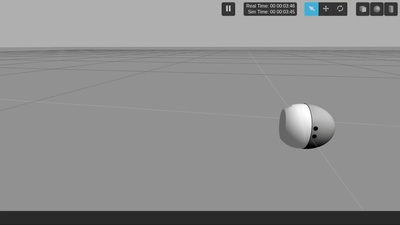mira_robot: (279, 103, 335, 149)
